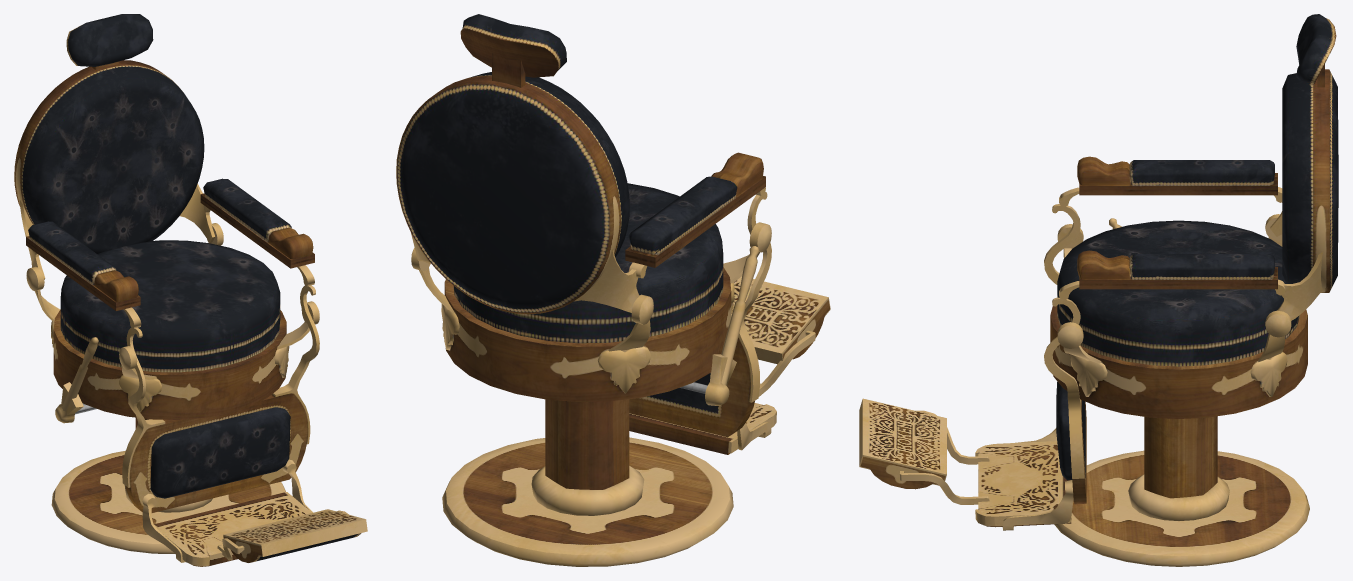
File: BarberShopChair_01_2k.fbx
3 views of the same model, side by side, from view 1: azimuth 30°, elevation 25°; view 2: azimuth 150°, elevation 25°; view 3: azimuth 270°, elevation 25° (orthographic). The views are drawn at different scales.
Visible parts, largest first — view 1: BarberShopChair_01; view 2: BarberShopChair_01; view 3: BarberShopChair_01.
Boxes of the visible parts, left/top/right/bottom form: BarberShopChair_01: left=14, top=14, right=367, bottom=566; BarberShopChair_01: left=396, top=14, right=830, bottom=566; BarberShopChair_01: left=859, top=14, right=1338, bottom=566.
Bounding box in the file's own units: 75.65 × 149 × 133.
